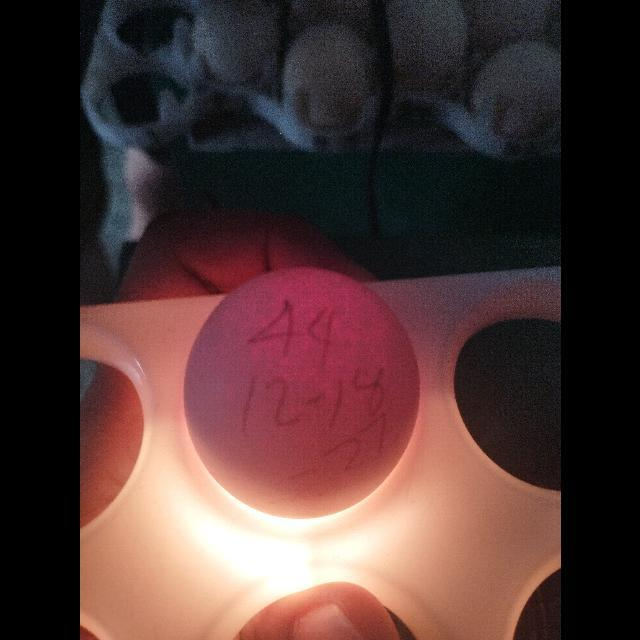Infertile: (179, 263, 427, 527)
